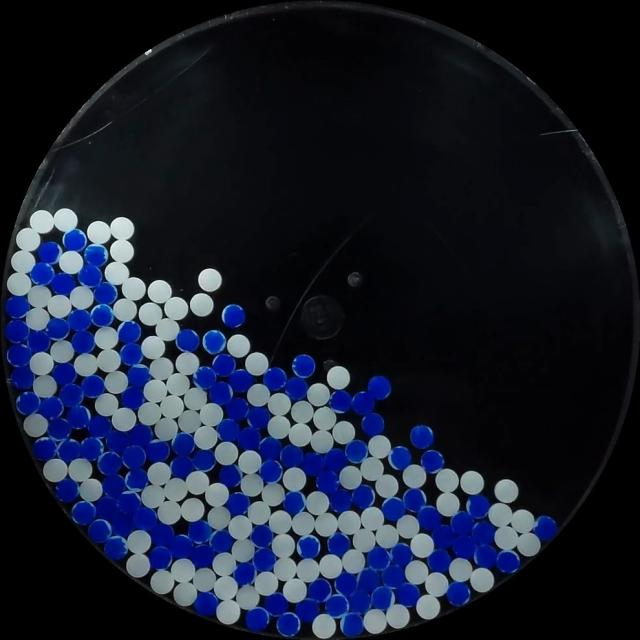pmmma-azul: (426, 548, 454, 577), (451, 509, 475, 538), (170, 533, 196, 559), (453, 534, 479, 560), (472, 543, 498, 569), (448, 582, 474, 608), (65, 309, 93, 333), (44, 418, 73, 441), (10, 366, 36, 391), (466, 492, 491, 518), (368, 374, 392, 401), (51, 360, 76, 385), (38, 395, 63, 420), (202, 329, 227, 354), (34, 436, 59, 461), (333, 572, 358, 597), (6, 294, 30, 320), (64, 405, 90, 429), (171, 432, 195, 458), (54, 479, 80, 503), (382, 496, 406, 522), (88, 519, 112, 545), (324, 593, 350, 617), (348, 590, 374, 614), (381, 566, 407, 590), (370, 588, 396, 612), (169, 455, 196, 478), (221, 304, 246, 328), (209, 529, 233, 554), (251, 548, 276, 572), (308, 578, 333, 602), (71, 501, 95, 526), (264, 593, 289, 617), (276, 614, 301, 638), (296, 598, 320, 623), (70, 331, 95, 355), (216, 418, 240, 443), (3, 320, 29, 343), (45, 319, 71, 342), (7, 344, 33, 367), (209, 382, 235, 405), (125, 466, 148, 492), (104, 534, 127, 560), (357, 569, 380, 595), (248, 606, 270, 633), (118, 342, 142, 366), (421, 448, 445, 472), (146, 439, 170, 463), (98, 452, 122, 476), (57, 438, 81, 462), (133, 507, 157, 531), (218, 463, 242, 487), (150, 546, 174, 570), (250, 524, 274, 548), (417, 506, 441, 530), (390, 542, 414, 566), (396, 583, 420, 607), (498, 552, 522, 576), (293, 354, 316, 379), (328, 390, 351, 415), (80, 437, 105, 460), (187, 520, 212, 543), (191, 545, 216, 568), (403, 488, 426, 513), (127, 364, 153, 386), (360, 413, 386, 435), (88, 416, 114, 438), (472, 518, 494, 544), (193, 593, 220, 614), (38, 242, 62, 265), (176, 328, 199, 352), (228, 368, 251, 392), (285, 376, 308, 400), (410, 425, 434, 448), (237, 428, 260, 452), (260, 459, 283, 483), (192, 449, 216, 472), (122, 446, 146, 469), (297, 535, 321, 558), (432, 526, 455, 550), (535, 515, 558, 539), (15, 393, 40, 415), (224, 398, 249, 420), (327, 531, 349, 556), (368, 547, 390, 572), (81, 375, 104, 398), (351, 391, 374, 414), (96, 496, 119, 519), (62, 229, 86, 251), (79, 265, 103, 287), (58, 383, 82, 405), (263, 368, 287, 390), (389, 446, 411, 470), (345, 440, 369, 462), (316, 471, 340, 493), (118, 492, 142, 514), (150, 524, 174, 546), (352, 483, 373, 508), (212, 354, 235, 376), (193, 367, 216, 389), (325, 448, 347, 471), (258, 438, 280, 461), (130, 424, 153, 446), (106, 430, 129, 452), (102, 476, 125, 498), (111, 514, 133, 537), (84, 244, 108, 265), (90, 306, 114, 327), (120, 388, 144, 409), (235, 562, 256, 586), (340, 616, 365, 636), (32, 263, 54, 285), (248, 406, 270, 428), (330, 489, 352, 511), (26, 331, 49, 352), (118, 322, 141, 343), (284, 491, 305, 514), (94, 285, 119, 304), (280, 446, 302, 467), (228, 492, 249, 514), (302, 454, 322, 475), (52, 274, 72, 294)
